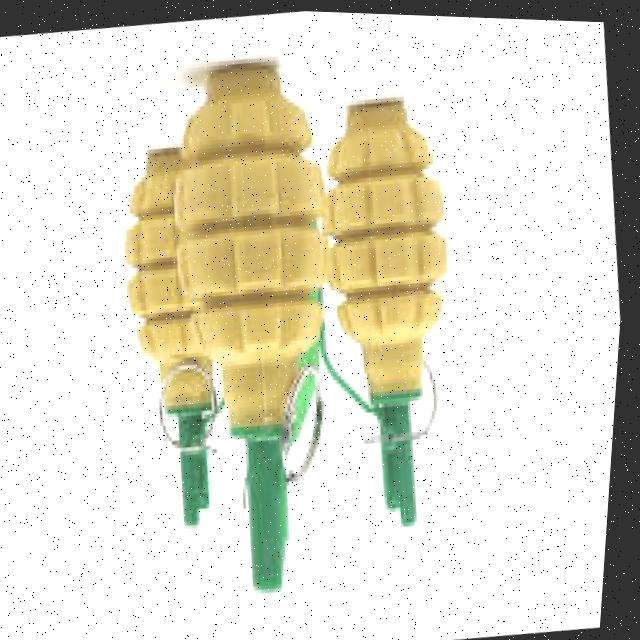grenade: (146, 17, 381, 594), (283, 86, 495, 568), (99, 134, 260, 536)
